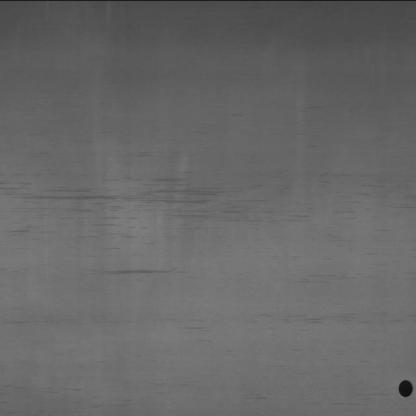oil_spot: (20, 176, 356, 244), (266, 307, 390, 333), (88, 258, 182, 280)
punching_hole: (394, 375, 416, 398)
